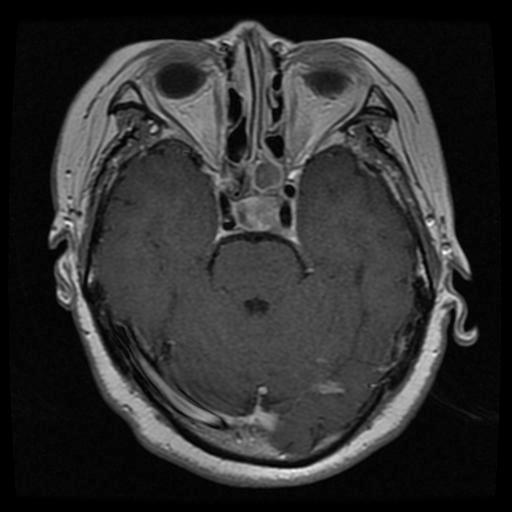Tumour-Pituitary: (213, 173, 303, 244)
